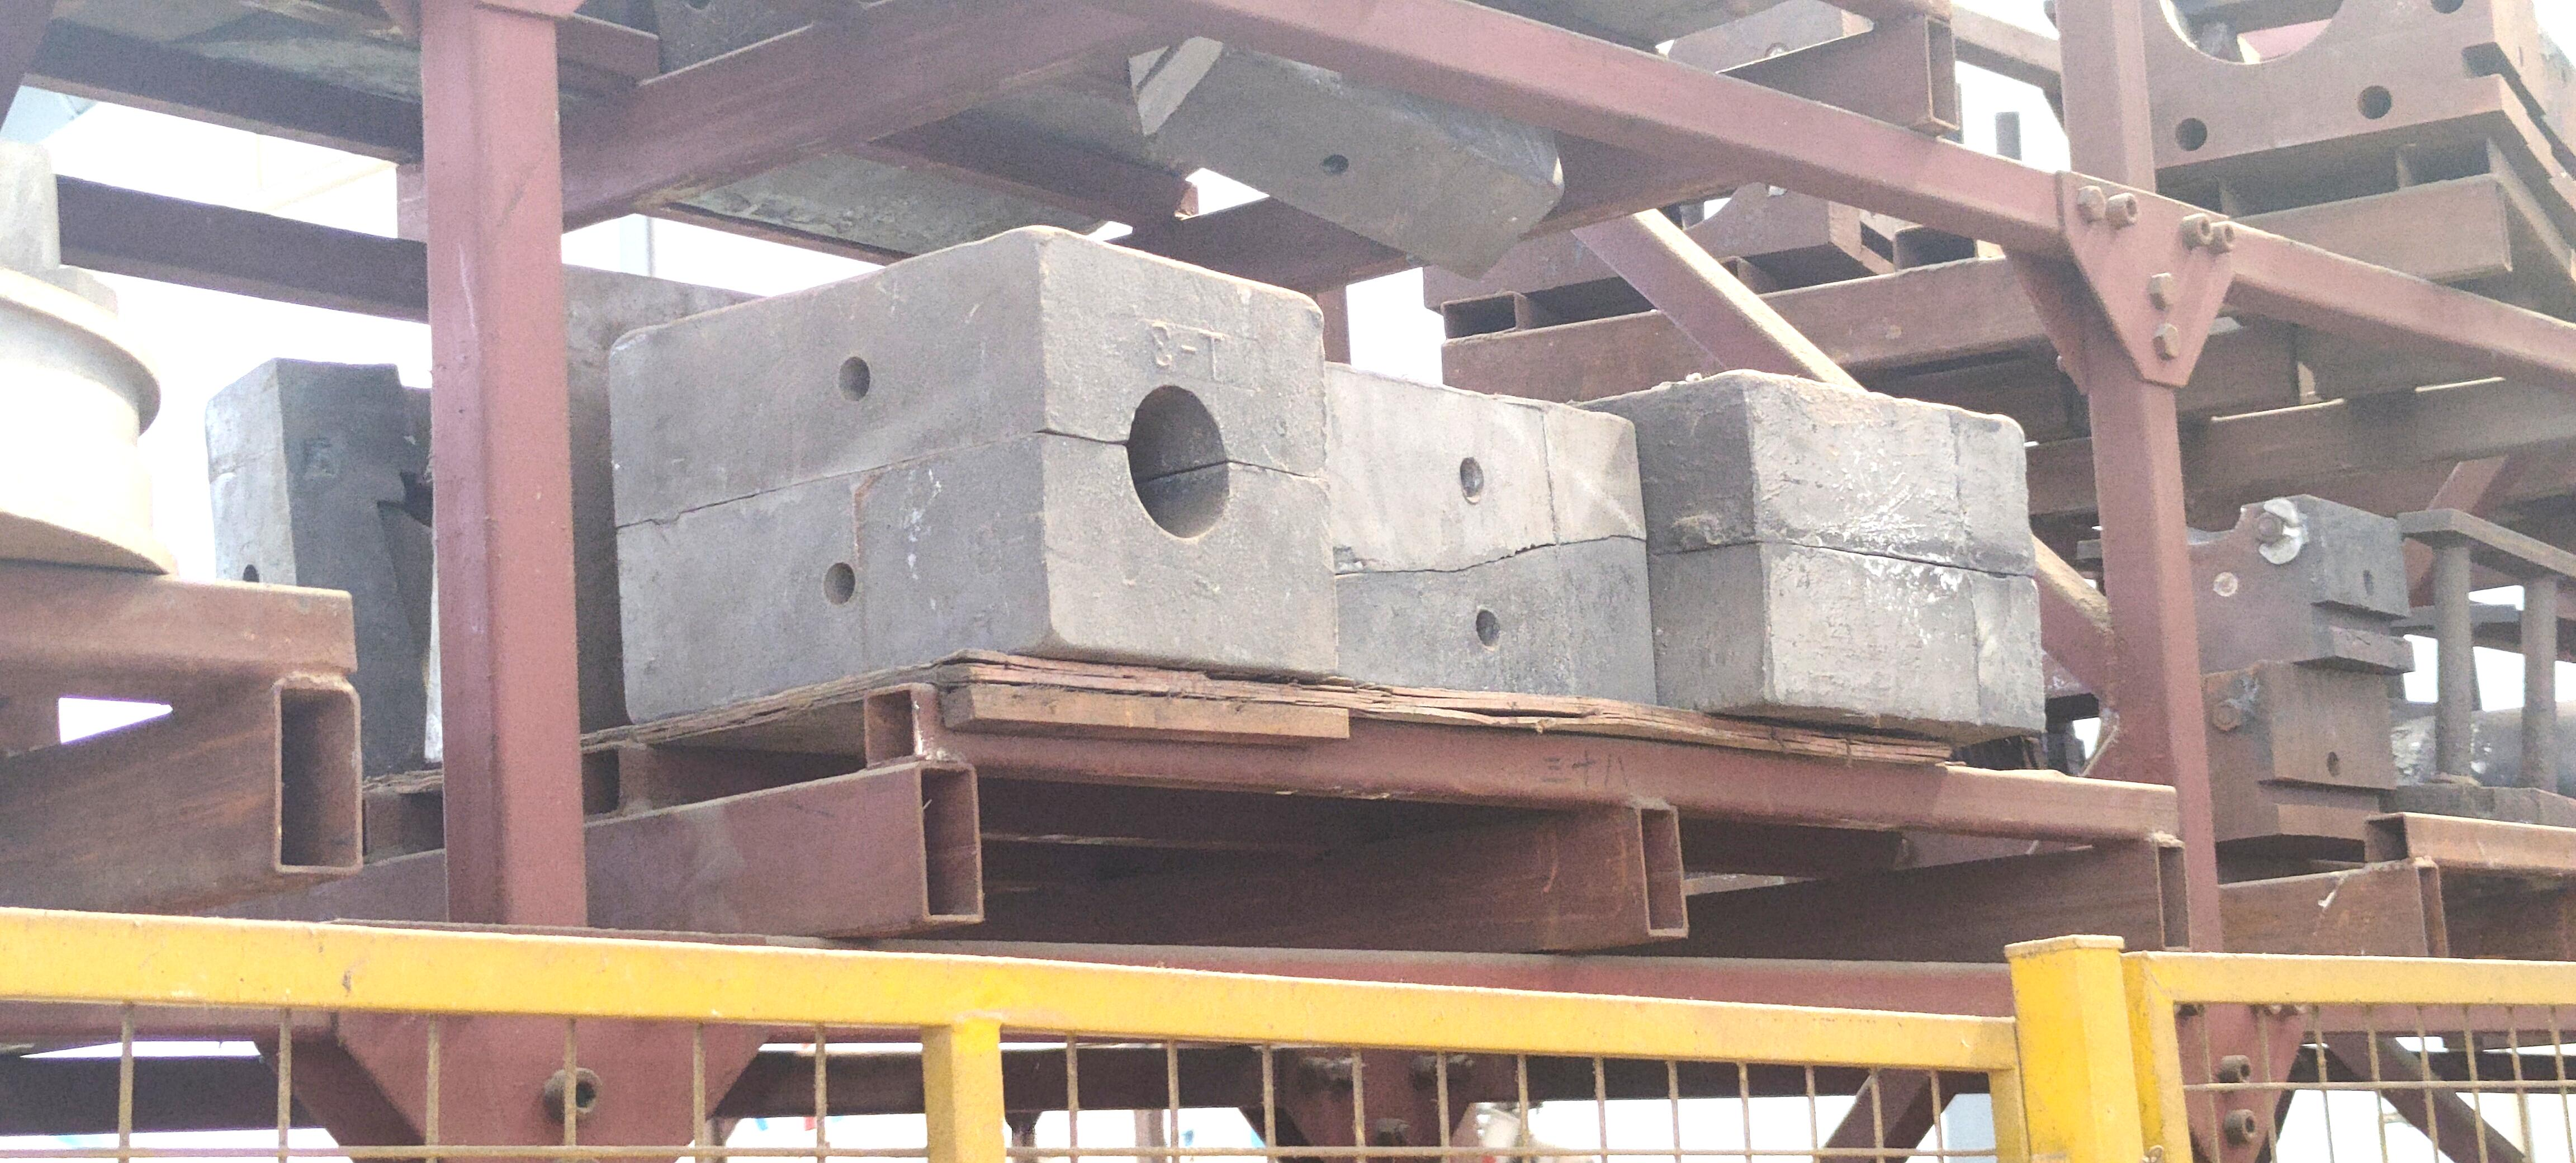pouring hole: (1130, 384, 1232, 539)
